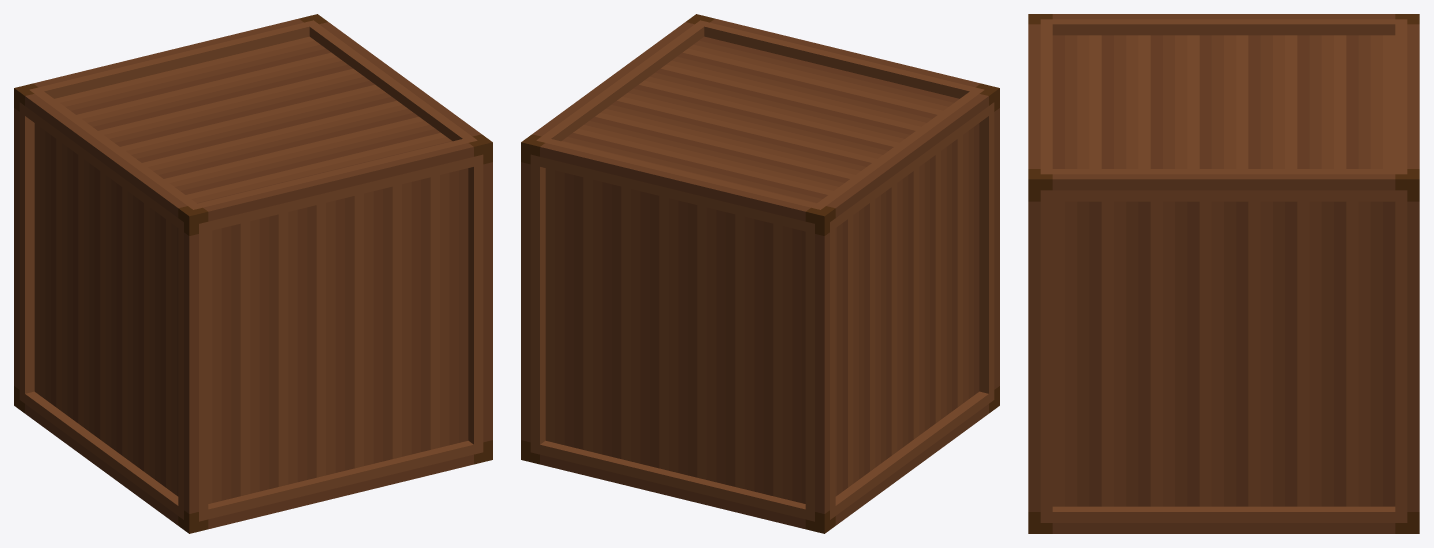
File: Wooden_Crate.obj
3 renders of one model, left to right at view 1: azimuth 30°, elevation 25°; view 2: azimuth 150°, elevation 25°; view 3: azimuth 270°, elevation 25°, orthographic. The views are drawn at different scales.
Size of the model in its own units: 3.2 by 3.2 by 3.2.
1 material, 1 textured.
